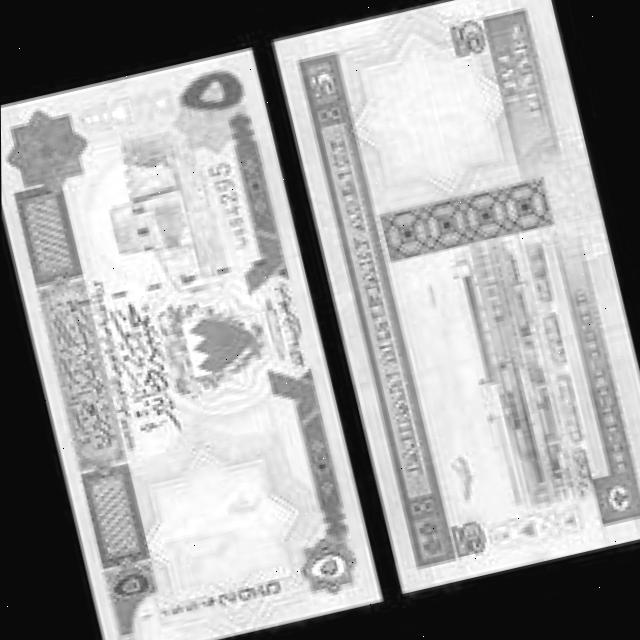banknote: (0, 45, 383, 640), (264, 0, 640, 599)
